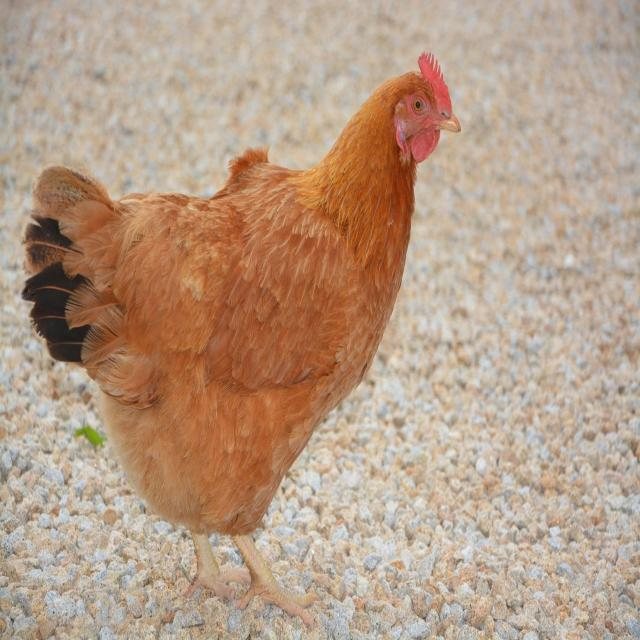Chicken: (25, 46, 466, 618)
